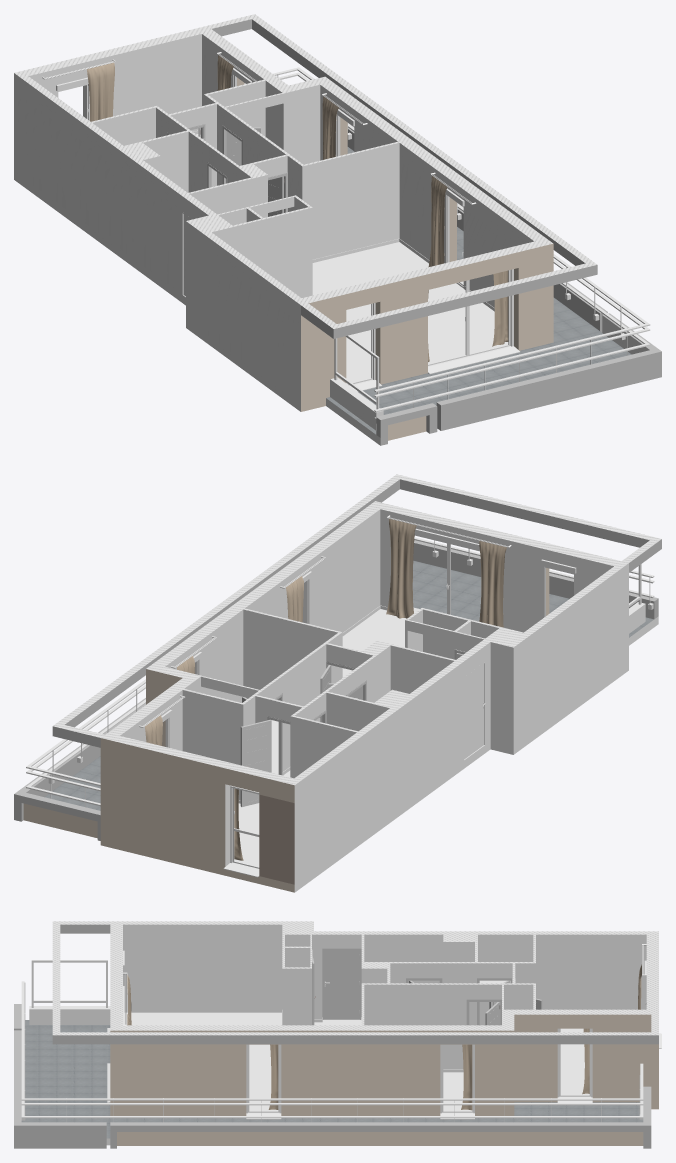
The picture shows the model from 3 angles, top to bottom: view 1: azimuth 30°, elevation 25°; view 2: azimuth 150°, elevation 25°; view 3: azimuth 270°, elevation 25°; orthographic projection. The views are drawn at different scales.
Parts seen in each view (by area): view 1: masonry_01, section_face_01, ground_terrace_01, ground_living_01, railing_window_01, window_french_window_doble_01, curtain_01, curtain_04, ground_kitchen_01, curtain_05, walltiles_decor_01, curtain_03 (+2 smaller); view 2: masonry_01, section_face_01, ground_terrace_01, curtain_05, railing_window_01, window_french_window_doble_01, door_01, ground_living_01, interior_door_panel_03, ground_bed_01, curtain_04; view 3: masonry_01, section_face_01, ground_terrace_01, railing_window_01, door_01, window_french_window_doble_01, ground_kitchen_01, ground_bed_01, ground_living_01, ground_bed_02, curtain_03, baseboard_kitchen_01 (+2 smaller).
Part boxes in pixels (left/top/right/bottom): masonry_01: left=14, top=19, right=661, bottom=445; section_face_01: left=14, top=14, right=596, bottom=328; ground_terrace_01: left=326, top=147, right=631, bottom=434; ground_living_01: left=312, top=242, right=508, bottom=364; railing_window_01: left=273, top=67, right=650, bottom=423; window_french_window_doble_01: left=56, top=68, right=520, bottom=391; curtain_01: left=87, top=62, right=114, bottom=121; curtain_04: left=428, top=176, right=447, bottom=267; ground_kitchen_01: left=346, top=335, right=370, bottom=383; curtain_05: left=428, top=270, right=508, bottom=361; walltiles_decor_01: left=160, top=149, right=188, bottom=192; curtain_03: left=322, top=96, right=338, bottom=159; masonry_01: left=14, top=479, right=661, bottom=892; section_face_01: left=53, top=474, right=661, bottom=785; ground_terrace_01: left=44, top=560, right=653, bottom=810; curtain_05: left=386, top=518, right=506, bottom=627; railing_window_01: left=26, top=537, right=654, bottom=807; window_french_window_doble_01: left=161, top=528, right=576, bottom=877; door_01: left=463, top=661, right=485, bottom=760; ground_living_01: left=342, top=609, right=406, bottom=677; interior_door_panel_03: left=240, top=719, right=271, bottom=806; ground_bed_01: left=234, top=803, right=259, bottom=866; curtain_04: left=286, top=576, right=303, bottom=622; masonry_01: left=14, top=924, right=658, bottom=1148; section_face_01: left=52, top=921, right=658, bottom=1035; ground_terrace_01: left=21, top=1020, right=643, bottom=1138; railing_window_01: left=21, top=981, right=643, bottom=1122; door_01: left=322, top=948, right=361, bottom=1019; window_french_window_doble_01: left=107, top=950, right=661, bottom=1119; ground_kitchen_01: left=124, top=1012, right=281, bottom=1055; ground_bed_01: left=560, top=1028, right=589, bottom=1095; ground_living_01: left=249, top=1056, right=278, bottom=1110; ground_bed_02: left=443, top=1072, right=472, bottom=1110; curtain_03: left=461, top=1044, right=472, bottom=1110; baseboard_kitchen_01: left=124, top=1009, right=282, bottom=1024.
Size of what is drawn, in the model's own units: 8.11 by 2.7 by 16.76.
63 materials, 41 textured.
